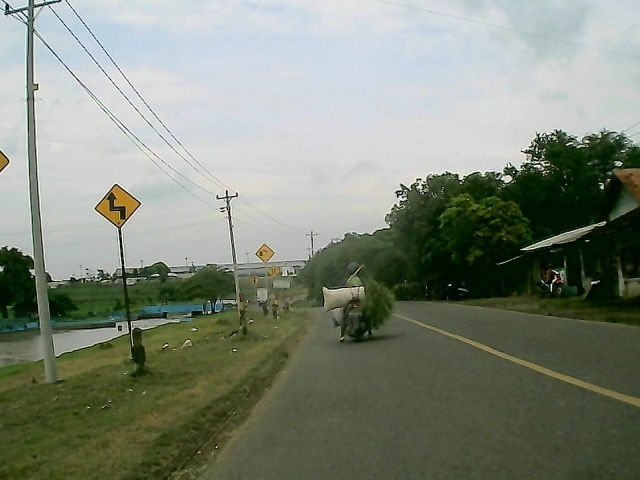Peringatan tepi air: (255, 244, 275, 264)
Tikungan garda pertama kiri: (94, 184, 144, 231)
